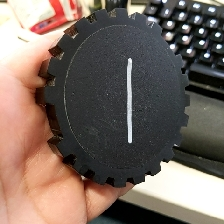gear: (34, 7, 192, 189)
missing: (36, 85, 73, 159), (148, 20, 184, 70)
